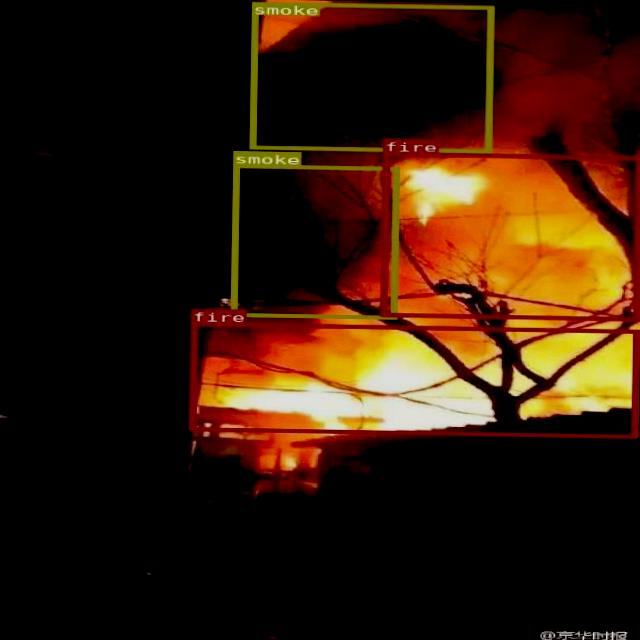fire: (188, 321, 638, 436), (378, 151, 640, 319)
smoke: (248, 1, 492, 152), (228, 164, 398, 318)
